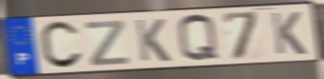7: (221, 10, 261, 61)
C: (38, 19, 86, 71)
K: (133, 18, 173, 63), (269, 11, 309, 56)
Q: (175, 13, 222, 65)
Z: (83, 18, 131, 67)
